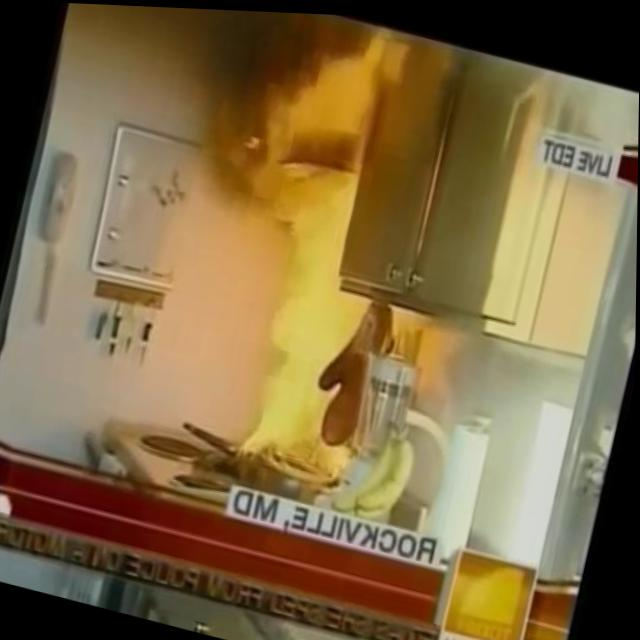fire: (194, 7, 453, 488)
